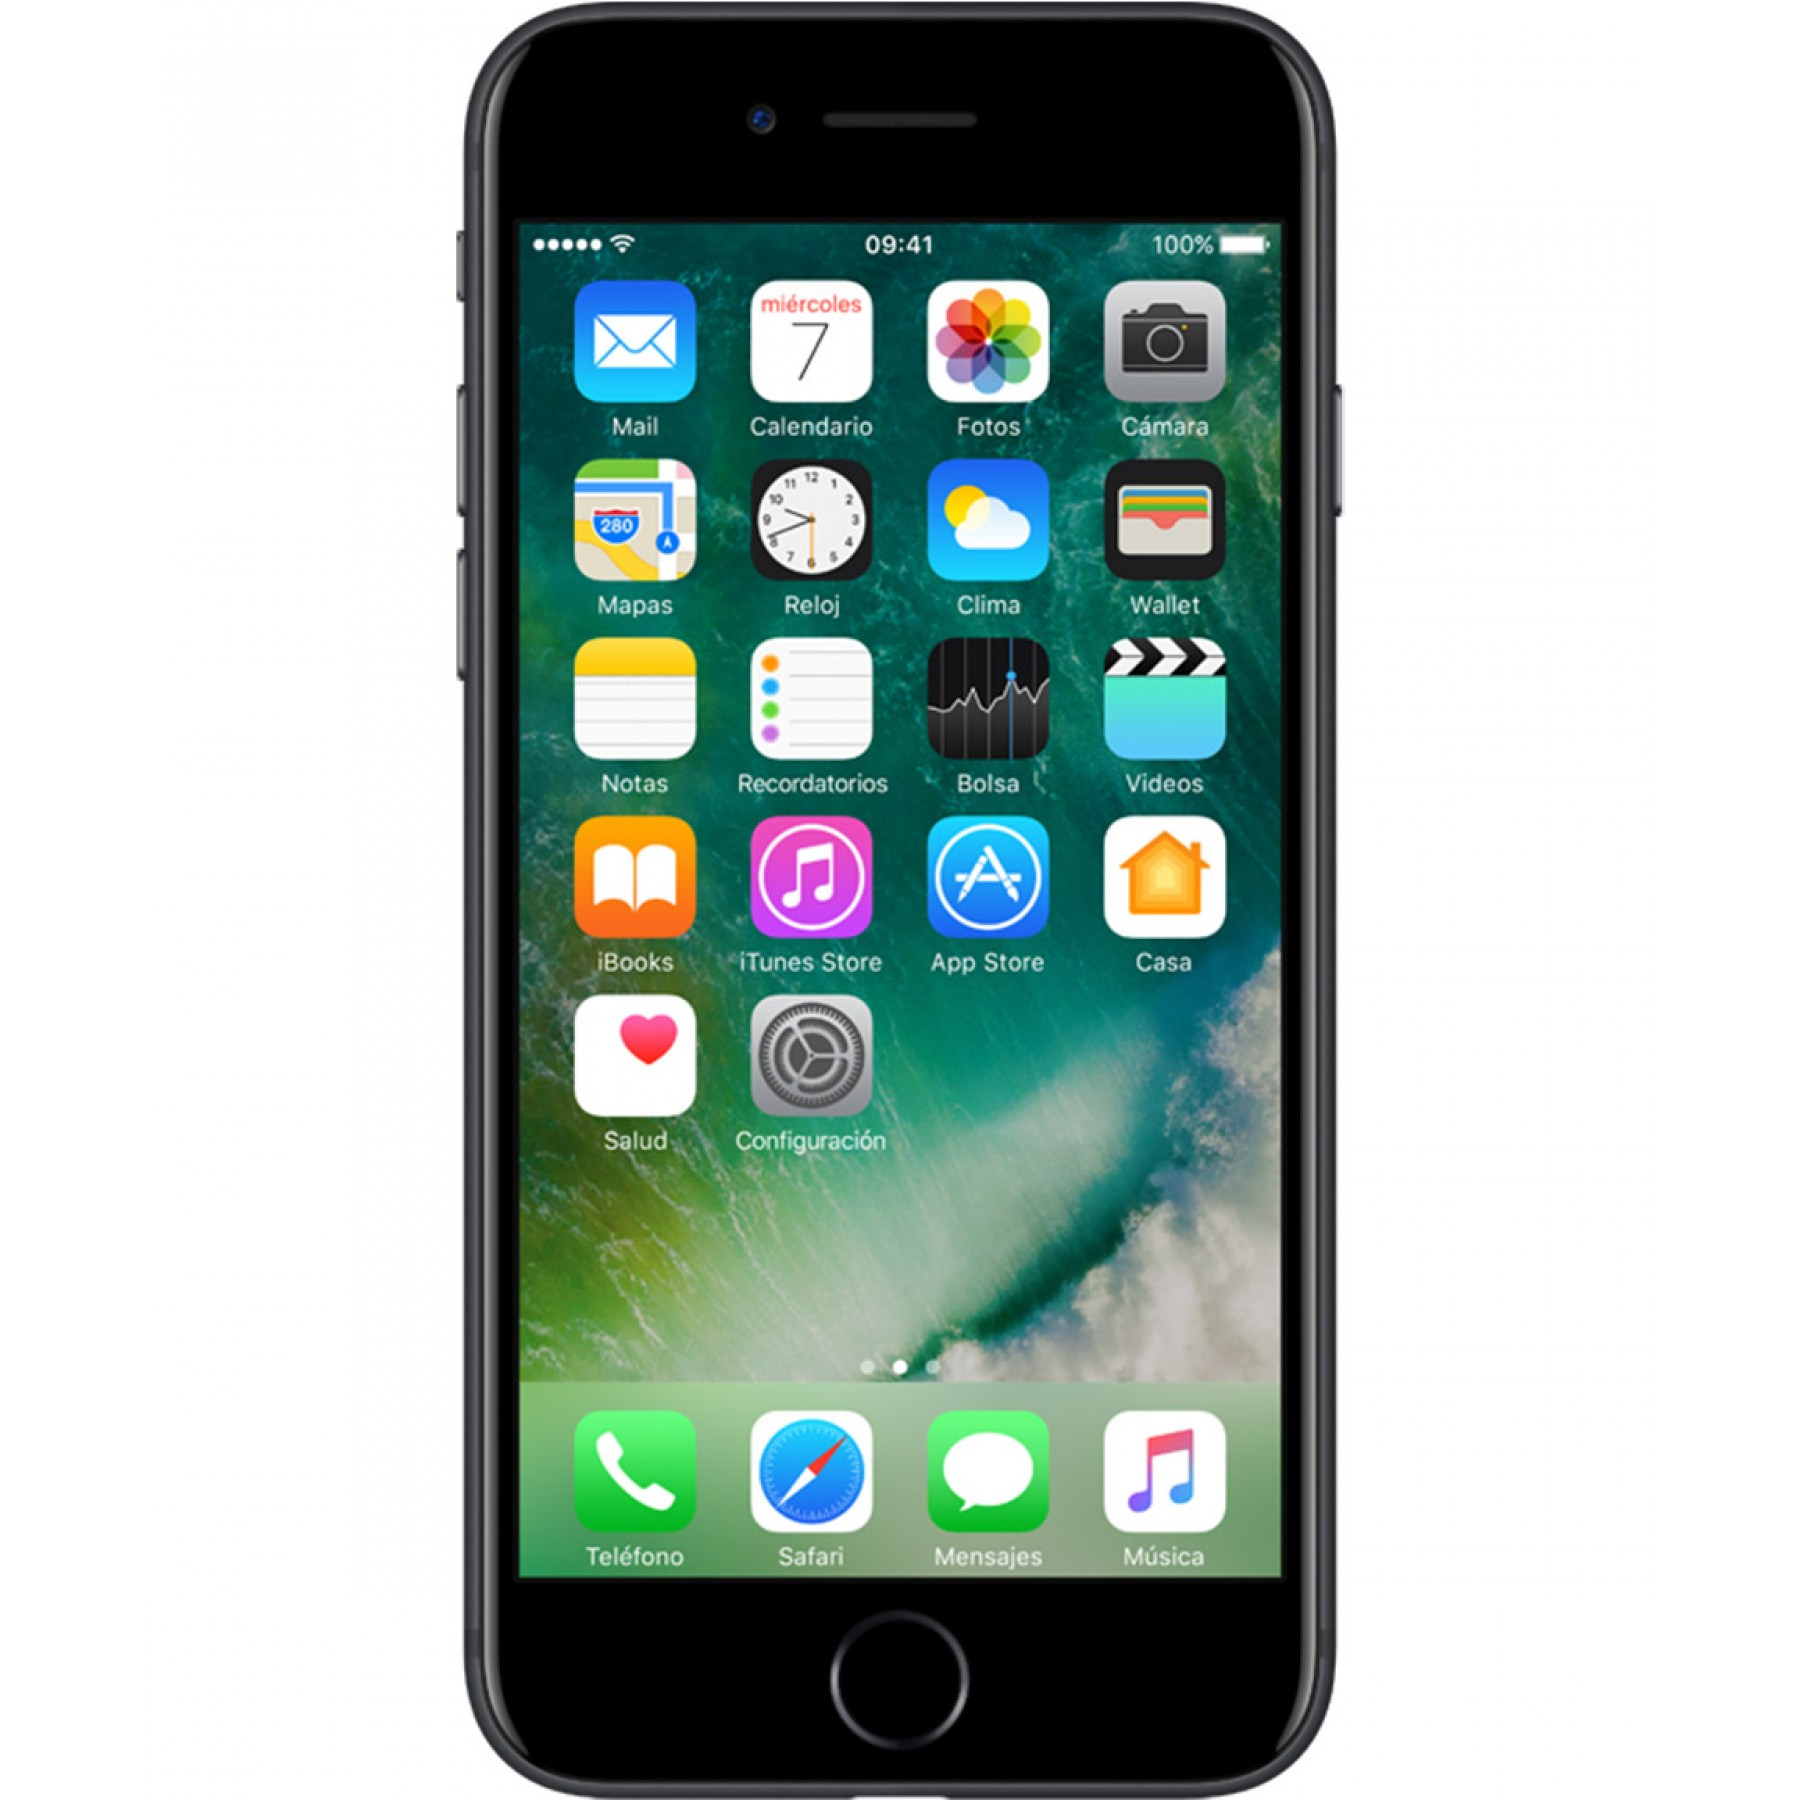smartphone: (453, 2, 1343, 1800)
